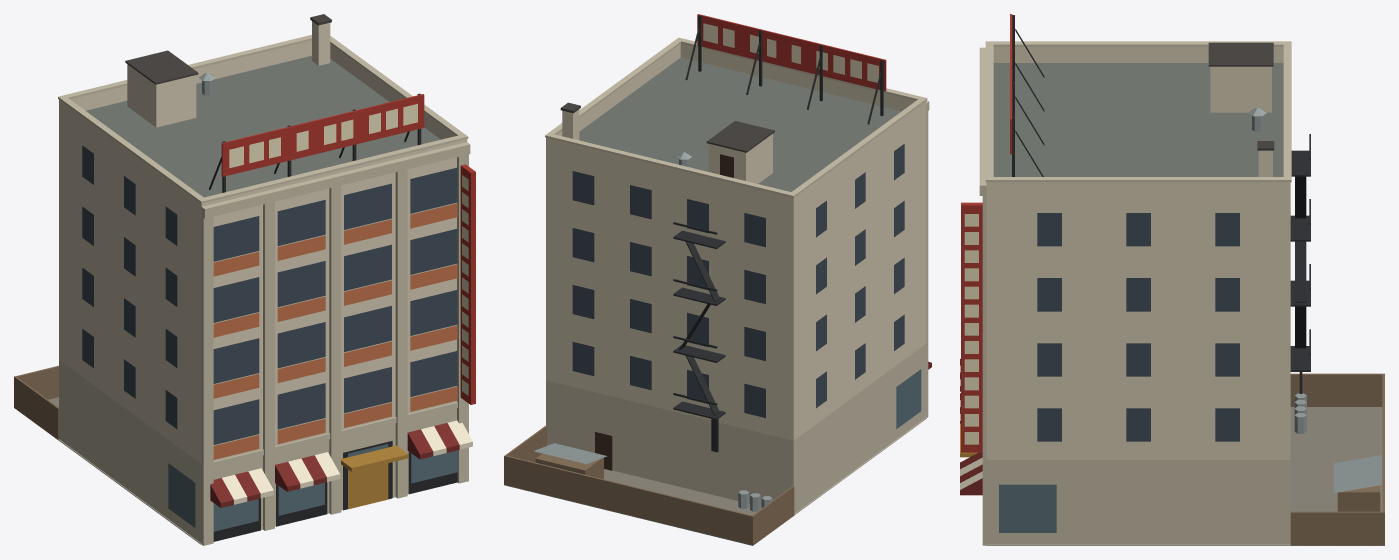
The model's file is office_wb.glb.
3 views of the same model, side by side, from view 1: azimuth 30°, elevation 25°; view 2: azimuth 150°, elevation 25°; view 3: azimuth 270°, elevation 25° (orthographic). The views are drawn at different scales.
Parts seen in each view (by area): view 1: office_wb; view 2: office_wb; view 3: office_wb.
Boxes of the visible parts, x1=… form: office_wb: x1=14, y1=14, x2=475, y2=545; office_wb: x1=504, y1=14, x2=931, y2=545; office_wb: x1=960, y1=14, x2=1384, y2=545.
Size of the model in its own units: 20 by 27.56 by 25.88.
